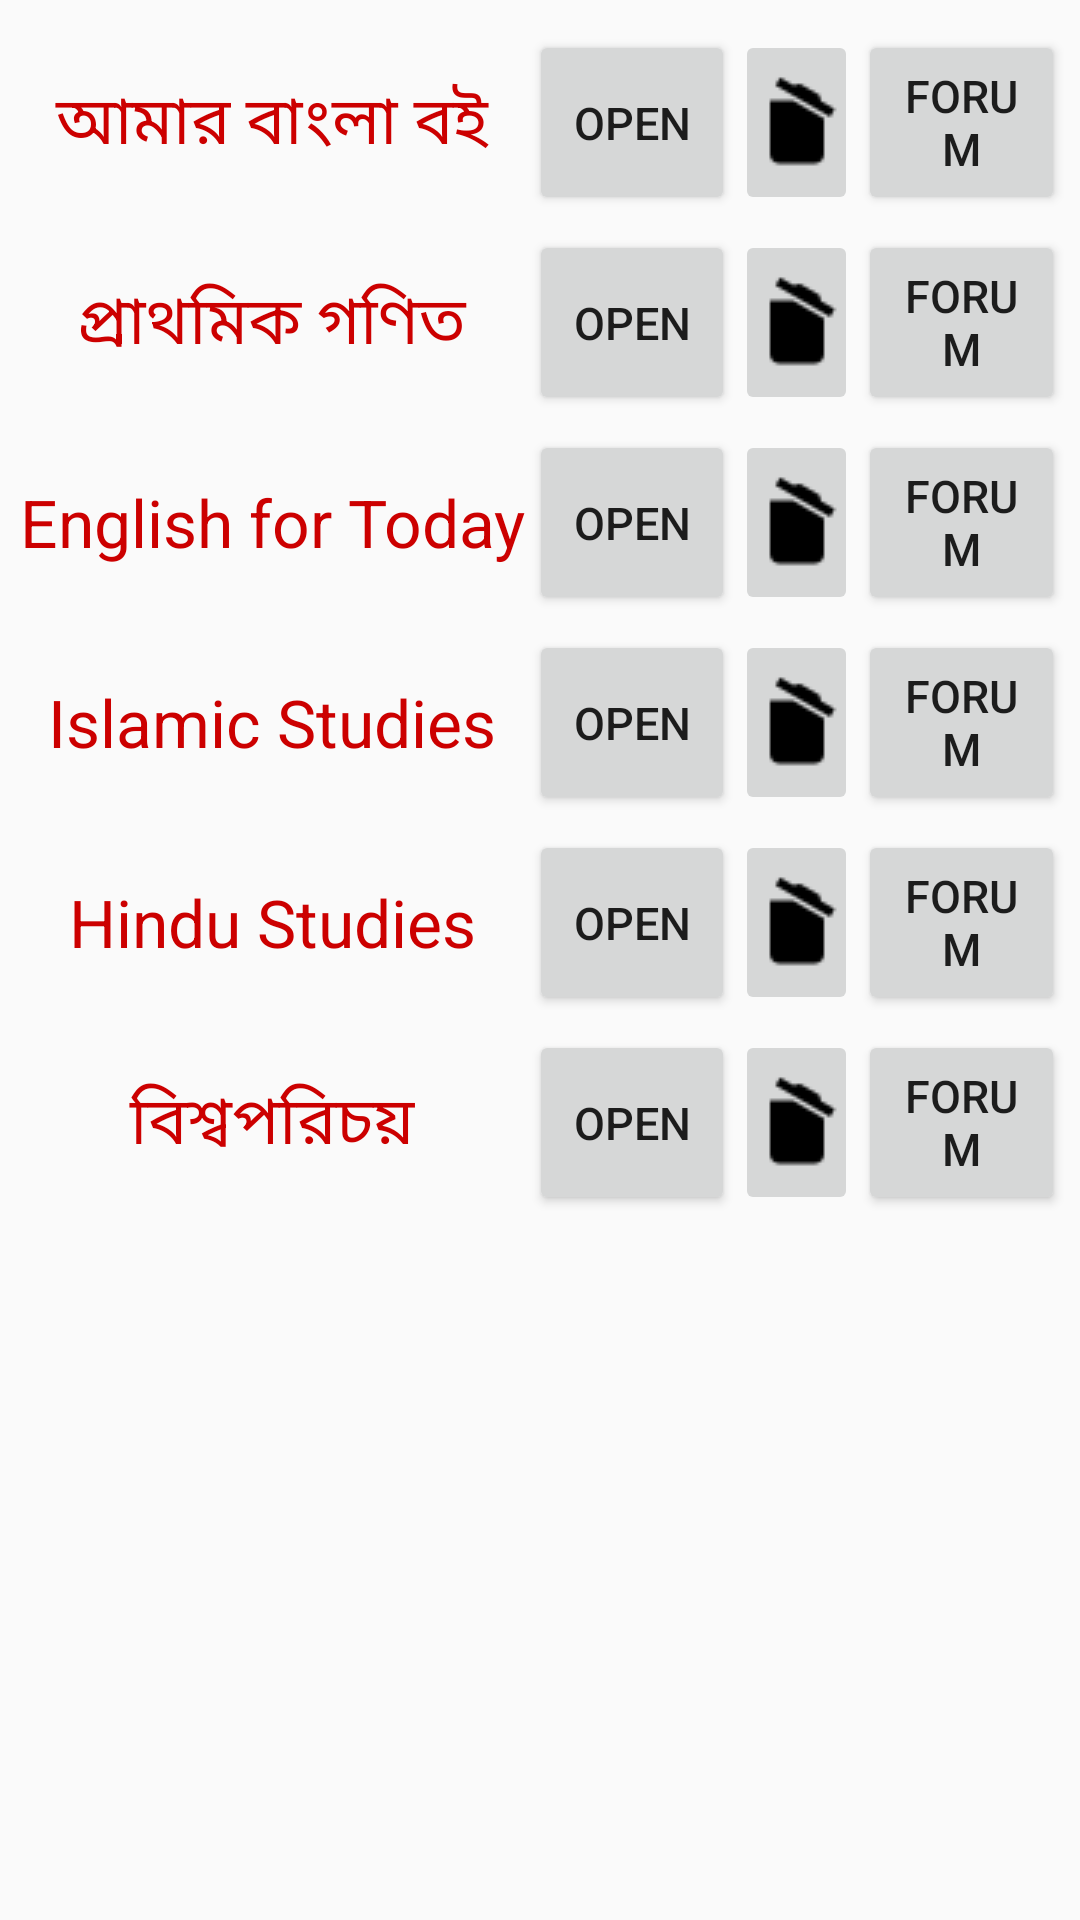

Named icons in this screenshot (1080 x 1920) and their centers, (x=x, y=y):
delete: (x=796, y=122), (x=796, y=322), (x=796, y=522), (x=796, y=722), (x=796, y=922), (x=796, y=1122)
